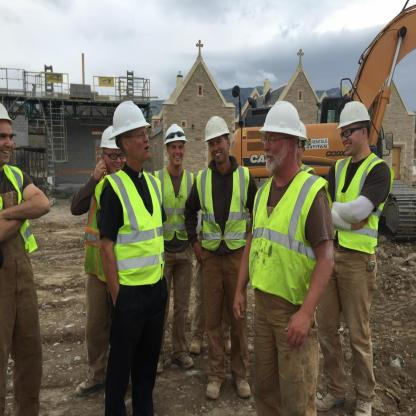person: (254, 88, 333, 416), (94, 100, 164, 416), (328, 69, 387, 416), (192, 69, 248, 399), (0, 95, 51, 408), (153, 113, 191, 388)
